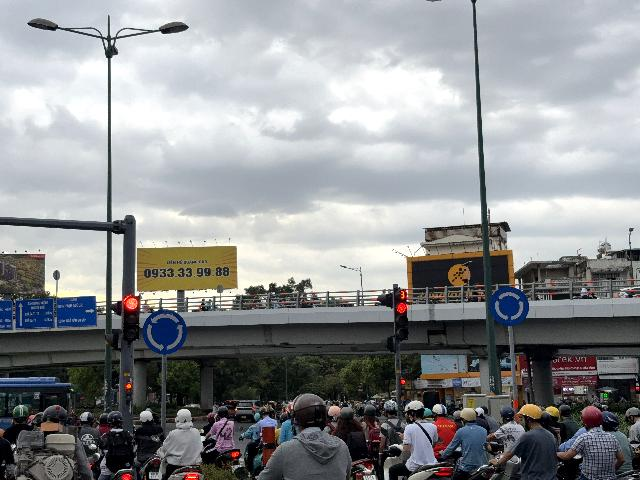noi-giao-nhau-chay-theo-vong-xuyen: (142, 309, 188, 356), (489, 286, 529, 325)
